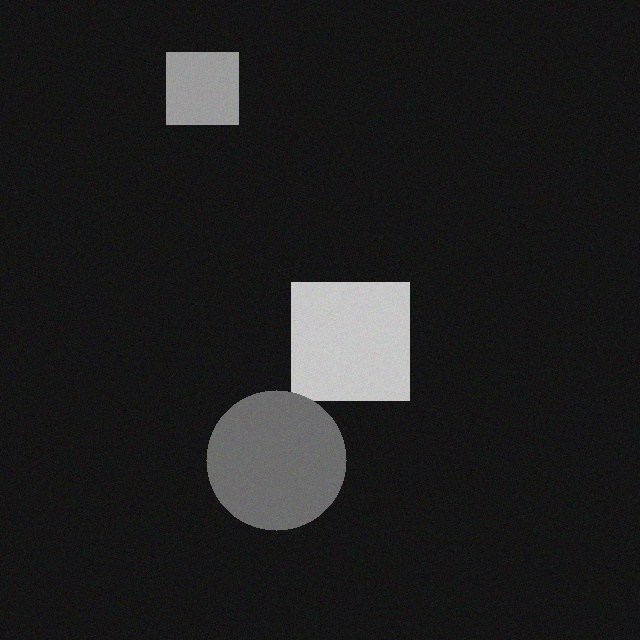circle: (218, 378, 358, 518)
square: (303, 270, 421, 388), (178, 40, 250, 112)
